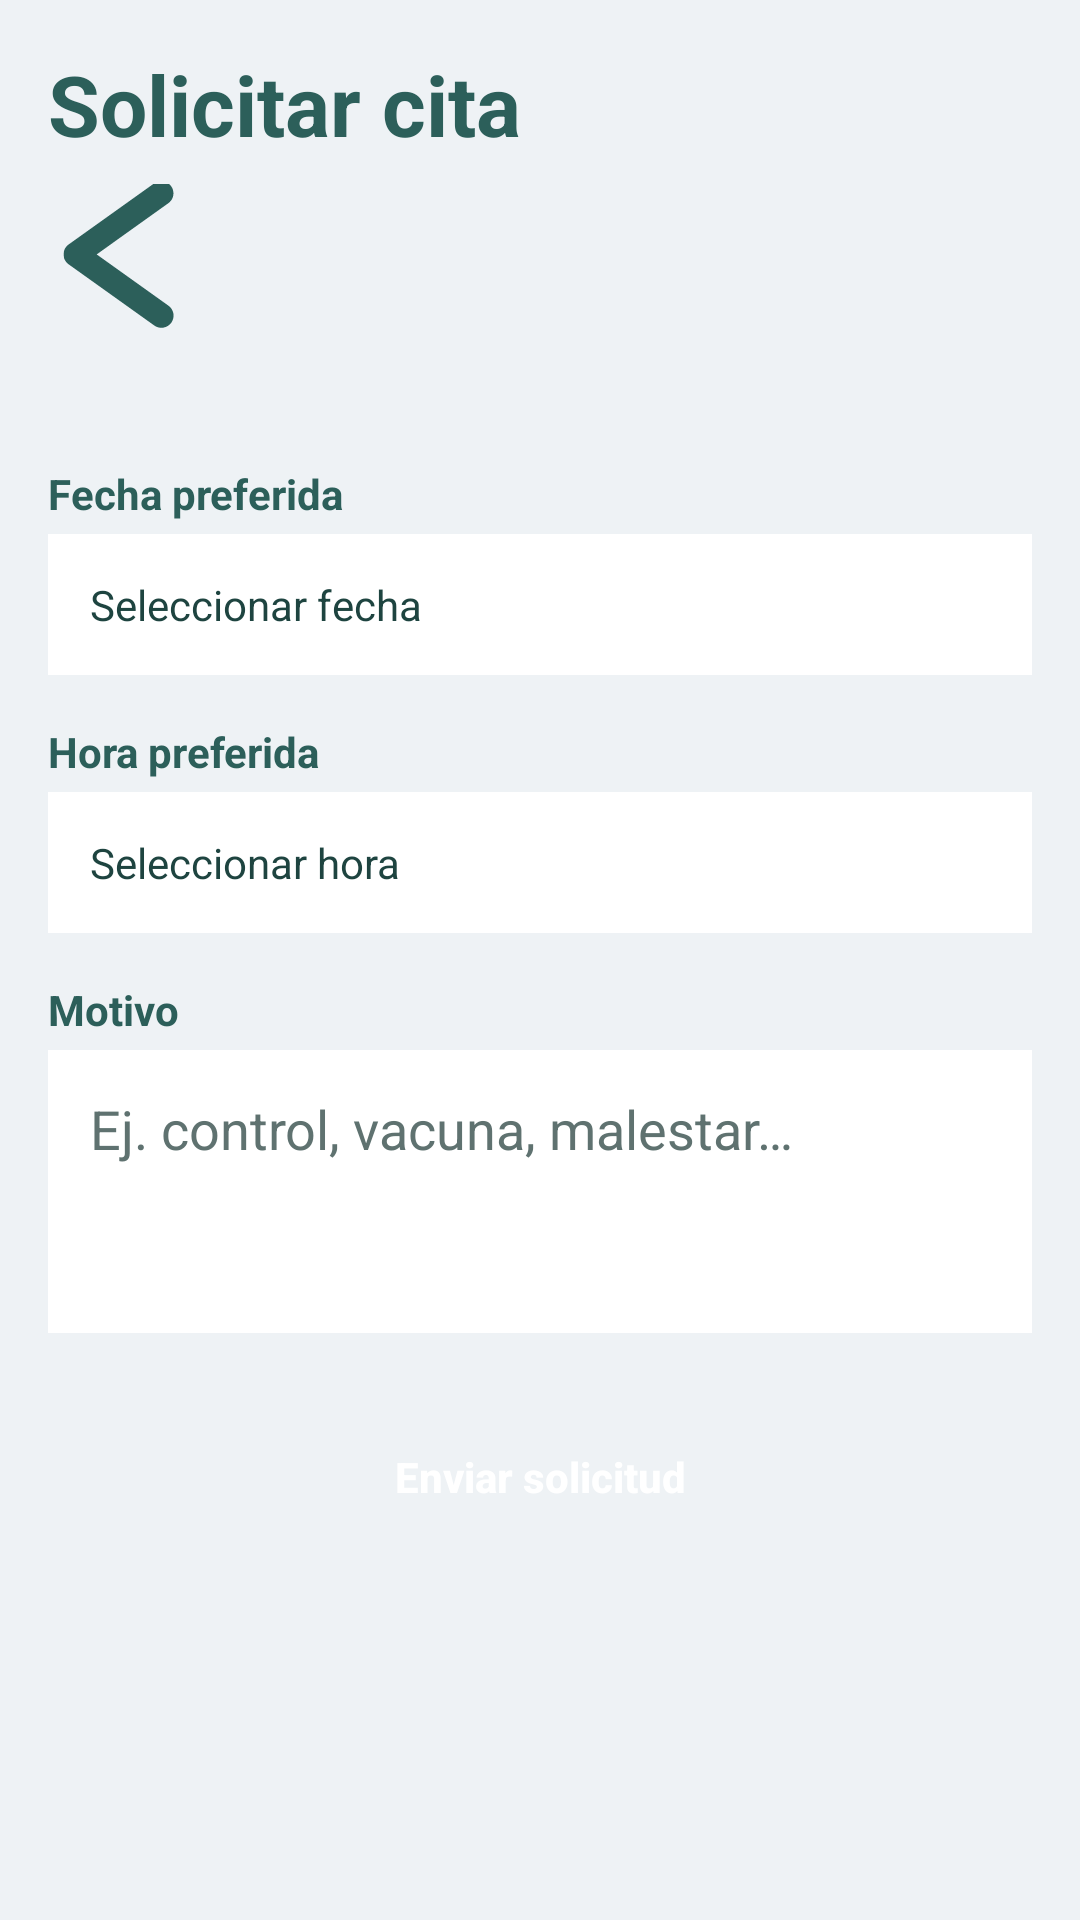

Point at icon controls on the screen. Image size 1080w x 1920h, points as (x=x, y=y).
Volver: (x=118, y=256)
